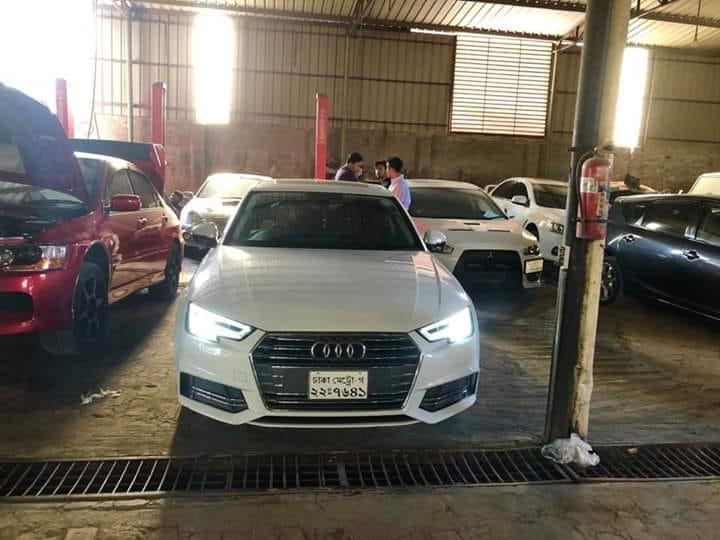registration_plate: (308, 370, 368, 400)
